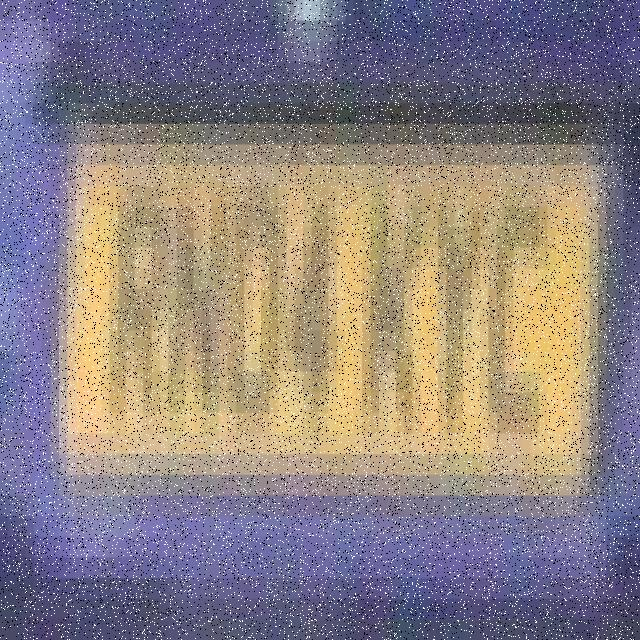licenseplate: (47, 76, 607, 516)
